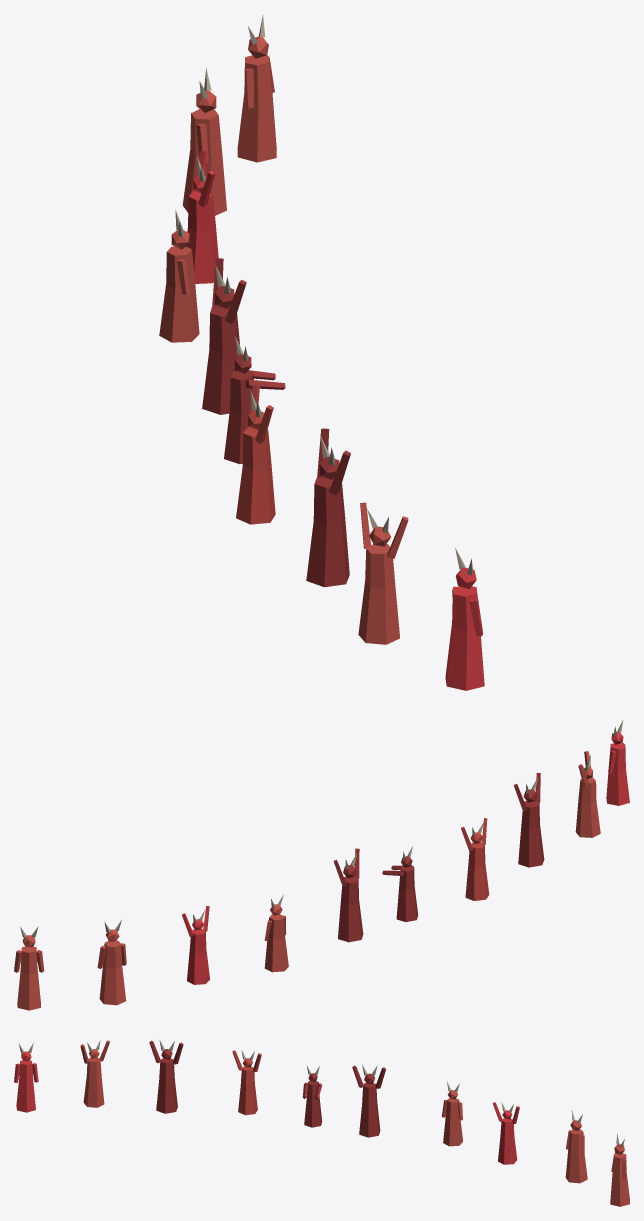
Rendered from Stands_6_0_0_Ice.obj.
The picture shows the model from 3 angles, top to bottom: view 1: azimuth 30°, elevation 25°; view 2: azimuth 150°, elevation 25°; view 3: azimuth 270°, elevation 25°; orthographic projection. The views are drawn at different scales.
Parts seen in each view (by area): view 1: Stands_6_0_0_Ice; view 2: Stands_6_0_0_Ice; view 3: Stands_6_0_0_Ice.
Boxes of the visible parts, x1,y1,x2,y2 form: Stands_6_0_0_Ice: (159,15,484,690); Stands_6_0_0_Ice: (14,720,629,1010); Stands_6_0_0_Ice: (14,1039,629,1206).
Size of the model in its own units: 13.73 by 4.09 by 33.13.
Materials: 1 (1 with a texture image).
